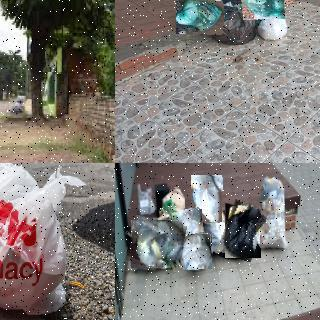Garbage: (0, 163, 89, 318), (129, 218, 185, 271), (221, 201, 265, 260), (259, 174, 289, 248), (175, 0, 224, 35), (190, 174, 223, 223), (216, 6, 257, 45), (182, 234, 213, 270), (158, 187, 185, 228), (257, 10, 290, 42), (178, 208, 204, 242), (241, 0, 284, 19)
